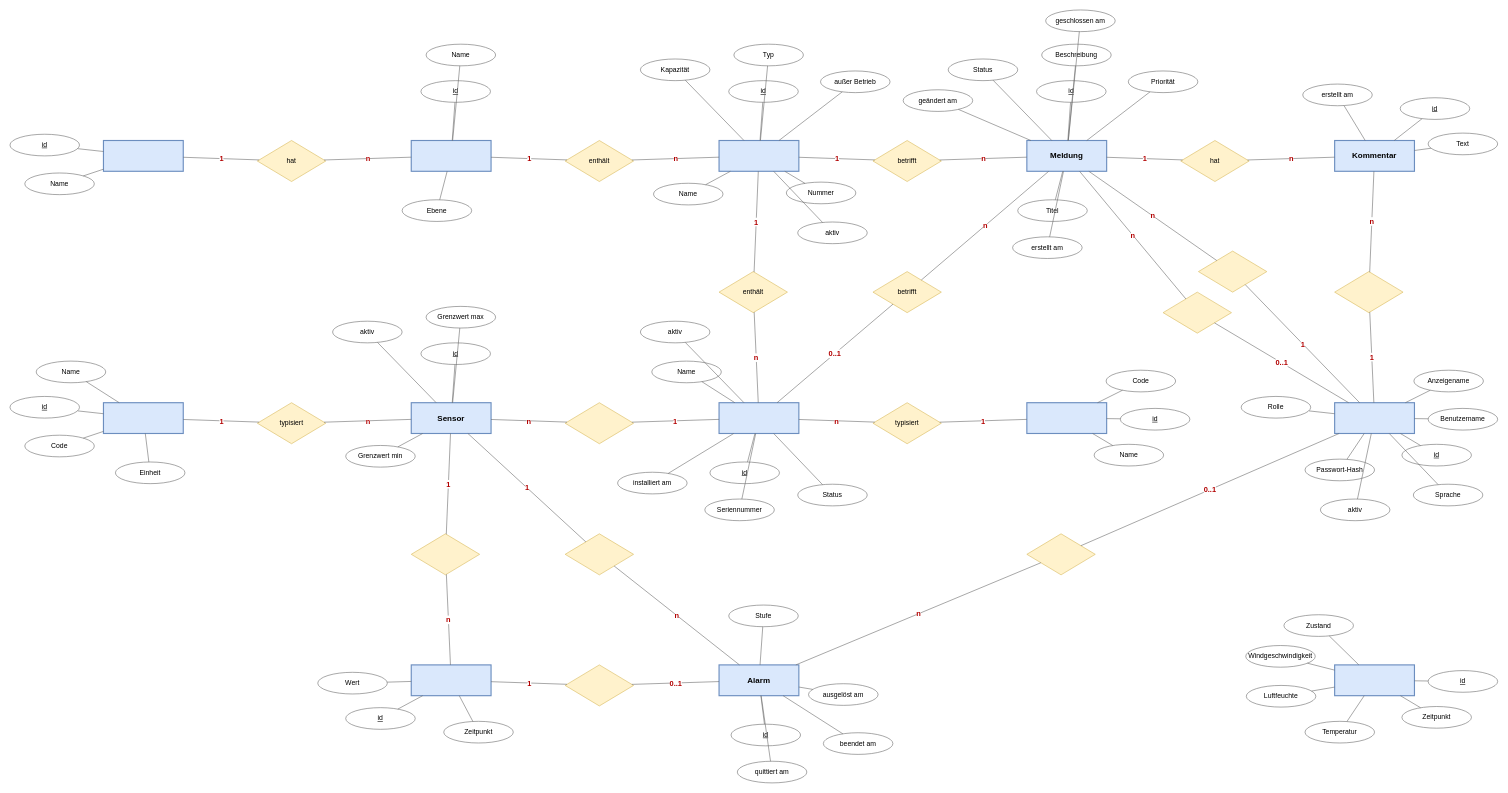
Some shapes in this 1508 by 793 pixel diagram are drawn without their labels. The box of each missing label's shape, as (x1, y1, x2, y2) in pixels:
bearbeitet: (1163, 292, 1231, 333)
Benutzer: (1334, 402, 1415, 434)
besitzt: (565, 402, 634, 444)
Gebäude: (103, 140, 184, 172)
Gerät: (718, 402, 799, 434)
Gerätetyp: (1026, 402, 1107, 434)
Geschoss: (410, 140, 491, 172)
liefert: (411, 533, 480, 575)
löst aus: (565, 533, 634, 575)
meldet: (1198, 251, 1267, 292)
Messwert: (410, 664, 491, 696)
quittiert: (1026, 533, 1095, 575)
Raum: (718, 140, 799, 172)
schreibt: (1334, 271, 1403, 313)
Sensortyp: (103, 402, 184, 434)
verursacht: (565, 664, 634, 706)
Wetter: (1334, 664, 1415, 696)
